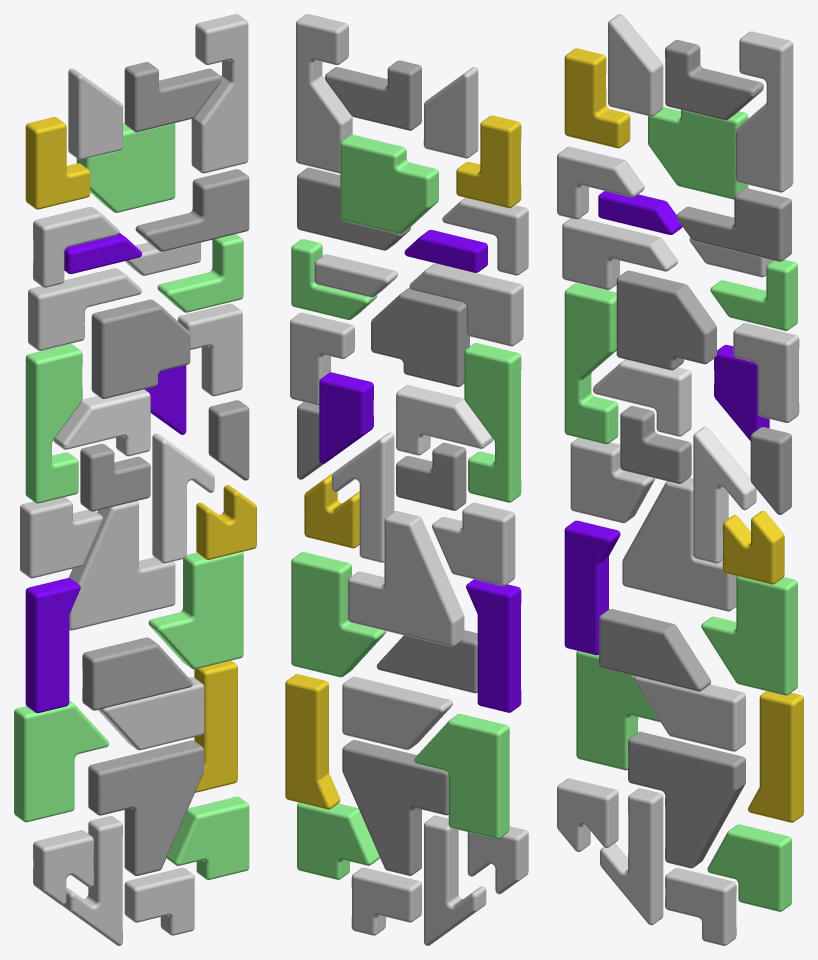
The model's file is column-pieces-anim.glb.
The picture shows the model from 3 angles, left to right: view 1: azimuth 30°, elevation 25°; view 2: azimuth 150°, elevation 25°; view 3: azimuth 330°, elevation 25°; orthographic projection.
Parts seen in each view (by area): view 1: Object_29, Object_61, Object_30, Object_60, Object_55, Object_56, Object_37, Object_38, Object_57, Object_59, Object_39, Object_35 (+21 smaller); view 2: Object_61, Object_29, Object_30, Object_60, Object_38, Object_56, Object_55, Object_37, Object_33, Object_57, Object_31, Object_54 (+21 smaller); view 3: Object_29, Object_61, Object_60, Object_55, Object_37, Object_56, Object_38, Object_30, Object_59, Object_33, Object_57, Object_34 (+21 smaller).
Boxes of the visible parts, x1=… form: Object_29: x1=88, y1=740, x2=204, y2=875; Object_61: x1=68, y1=501, x2=175, y2=630; Object_30: x1=14, y1=700, x2=109, y2=822; Object_60: x1=148, y1=551, x2=243, y2=669; Object_55: x1=91, y1=299, x2=190, y2=398; Object_56: x1=25, y1=344, x2=82, y2=503; Object_37: x1=191, y1=14, x2=248, y2=173; Object_38: x1=76, y1=123, x2=175, y2=212; Object_57: x1=25, y1=578, x2=80, y2=713; Object_59: x1=82, y1=637, x2=192, y2=710; Object_39: x1=135, y1=169, x2=249, y2=251; Object_35: x1=166, y1=796, x2=249, y2=879; Object_61: x1=348, y1=511, x2=464, y2=646; Object_29: x1=342, y1=740, x2=448, y2=875; Object_30: x1=414, y1=714, x2=509, y2=838; Object_60: x1=291, y1=552, x2=386, y2=677; Object_38: x1=340, y1=134, x2=438, y2=234; Object_56: x1=464, y1=343, x2=521, y2=502; Object_55: x1=371, y1=287, x2=469, y2=386; Object_37: x1=296, y1=14, x2=352, y2=173; Object_33: x1=285, y1=674, x2=340, y2=809; Object_57: x1=466, y1=579, x2=521, y2=712; Object_31: x1=342, y1=676, x2=452, y2=749; Object_54: x1=409, y1=263, x2=523, y2=346; Object_29: x1=628, y1=731, x2=745, y2=868; Object_61: x1=622, y1=477, x2=736, y2=611; Object_60: x1=701, y1=576, x2=797, y2=695; Object_55: x1=616, y1=270, x2=716, y2=370; Object_37: x1=735, y1=31, x2=793, y2=192; Object_56: x1=564, y1=283, x2=618, y2=444; Object_38: x1=648, y1=107, x2=748, y2=199; Object_30: x1=576, y1=650, x2=660, y2=770; Object_59: x1=599, y1=609, x2=710, y2=691; Object_33: x1=748, y1=691, x2=803, y2=822; Object_57: x1=564, y1=520, x2=620, y2=655; Object_34: x1=600, y1=788, x2=663, y2=925.
Size of the model in its own units: 3.47 by 13.87 by 1.23.
